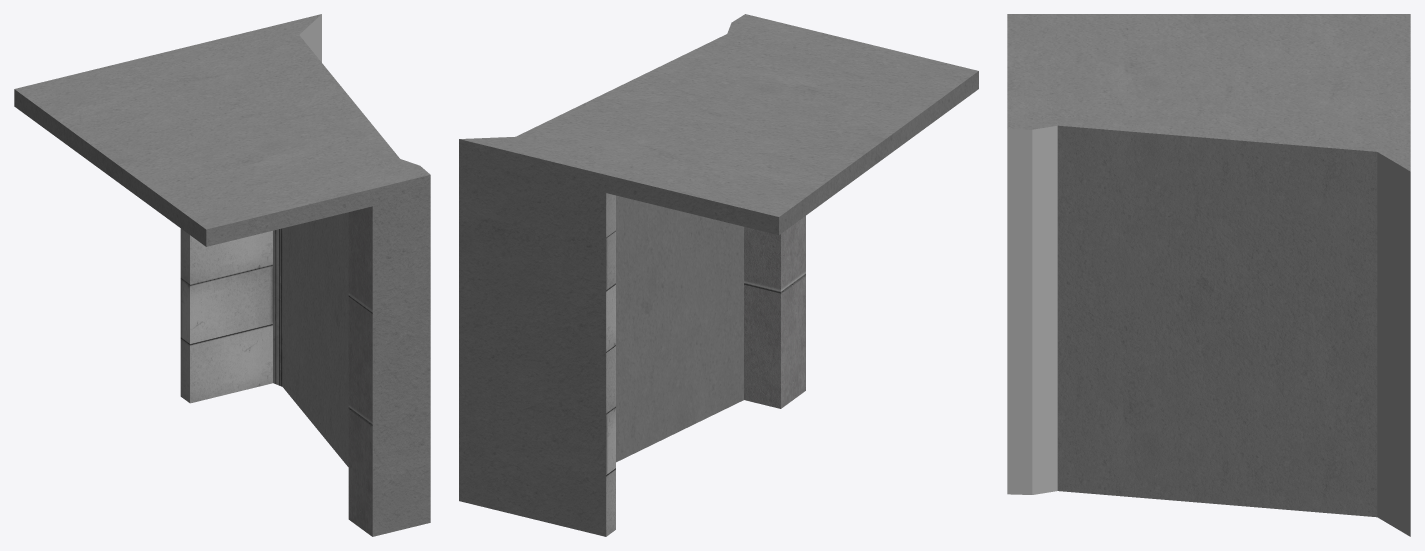
Rendered from Side_room_corner_middle_R.fbx.
3 views of the same model, side by side, from view 1: azimuth 30°, elevation 25°; view 2: azimuth 150°, elevation 25°; view 3: azimuth 270°, elevation 25° (orthographic). The views are drawn at different scales.
Parts seen in each view (by area): view 1: Side_room_corner_middle_R; view 2: Side_room_corner_middle_R; view 3: Side_room_corner_middle_R.
Boxes of the visible parts, x1,y1,x2,y2 form: Side_room_corner_middle_R: (14,14,430,536); Side_room_corner_middle_R: (459,14,978,536); Side_room_corner_middle_R: (1007,14,1410,536).
Bounding box in the file's own units: 3.7 × 4 × 4.
